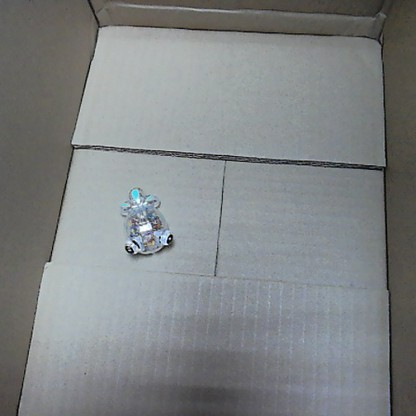whitefish: (113, 184, 174, 257)
